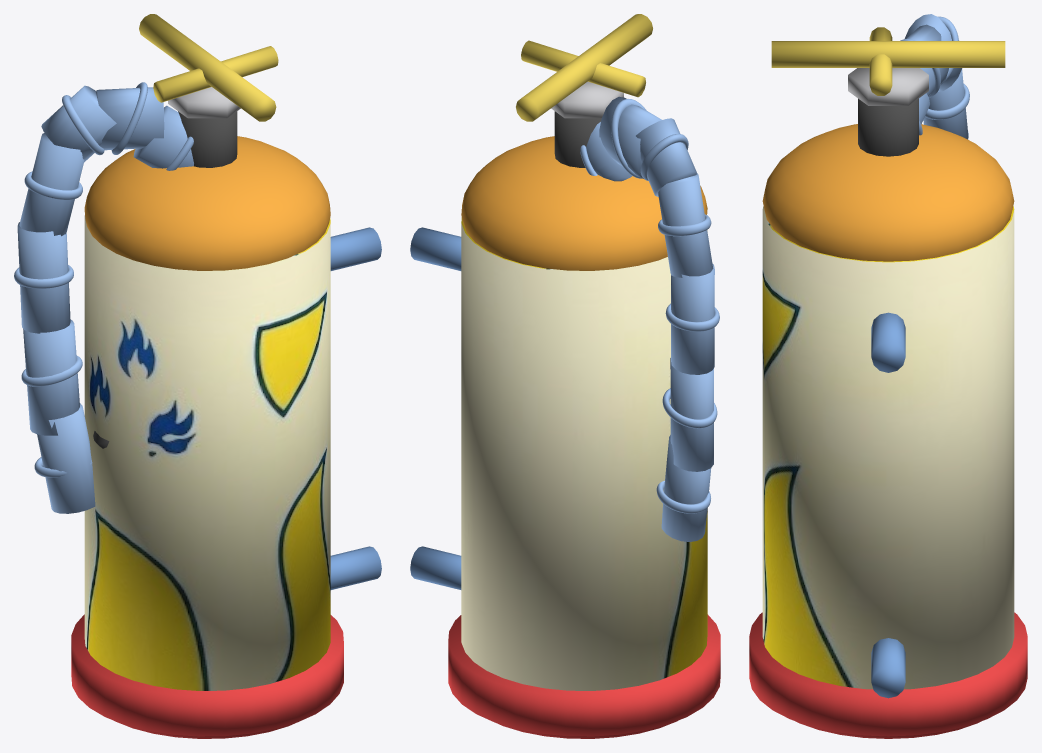
The model's file is Extintor.glb.
3 views of the same model, side by side, from view 1: azimuth 30°, elevation 25°; view 2: azimuth 150°, elevation 25°; view 3: azimuth 270°, elevation 25° (orthographic).
Visible parts, largest first — view 1: Body, Head, Base, Hose_5, Hose_4, Hose_6, Trigger_Horiz, Hose_3, Hose_1, Hose_2, ValveStem, Lever (+9 smaller); view 2: Body, Head, Base, Trigger_Horiz, Hose_4, Hose_5, Hose_3, Hose_6, Hose_2, Hose_1, Lever, BracketHookBot (+10 smaller); view 3: Body, Head, Base, Trigger_Horiz, ValveStem, ValveHead, BracketHookBot, BracketHookTop, Hose_3, Lever, Hose_2, Hose_1 (+2 smaller).
Part boxes in pixels (box(x1,y1,x2,y2)): Body: box(84, 215, 330, 690); Head: box(84, 136, 330, 270); Base: box(71, 614, 343, 736); Hose_5: box(23, 320, 79, 435); Hose_4: box(17, 222, 70, 333); Hose_6: box(37, 403, 95, 513); Trigger_Horiz: box(139, 14, 276, 121); Hose_3: box(19, 133, 84, 236); Hose_1: box(96, 87, 164, 150); Hose_2: box(41, 85, 116, 162); ValveStem: box(178, 111, 237, 167); Lever: box(153, 46, 278, 102); Body: box(461, 217, 707, 690); Head: box(461, 136, 707, 270); Base: box(448, 614, 720, 736); Trigger_Horiz: box(516, 14, 652, 121); Hose_4: box(671, 263, 714, 374); Hose_5: box(670, 358, 713, 471); Hose_3: box(658, 173, 713, 277); Hose_6: box(661, 435, 711, 541); Hose_2: box(636, 118, 696, 196); Hose_1: box(599, 96, 661, 178); Lever: box(521, 40, 645, 97); BracketHookBot: box(410, 546, 461, 589); Body: box(762, 206, 1014, 689); Head: box(762, 124, 1014, 261); Base: box(749, 612, 1027, 736); Trigger_Horiz: box(771, 41, 1005, 67); ValveStem: box(858, 98, 918, 156); ValveHead: box(848, 68, 928, 105); BracketHookBot: box(871, 638, 905, 698); BracketHookTop: box(871, 312, 905, 372); Hose_3: box(923, 69, 968, 139); Lever: box(869, 27, 892, 95); Hose_2: box(904, 14, 962, 91); Hose_1: box(906, 24, 948, 96).
Size of the model in its own units: 0.8576 by 1.58 by 0.62.
9 materials, 1 textured.
